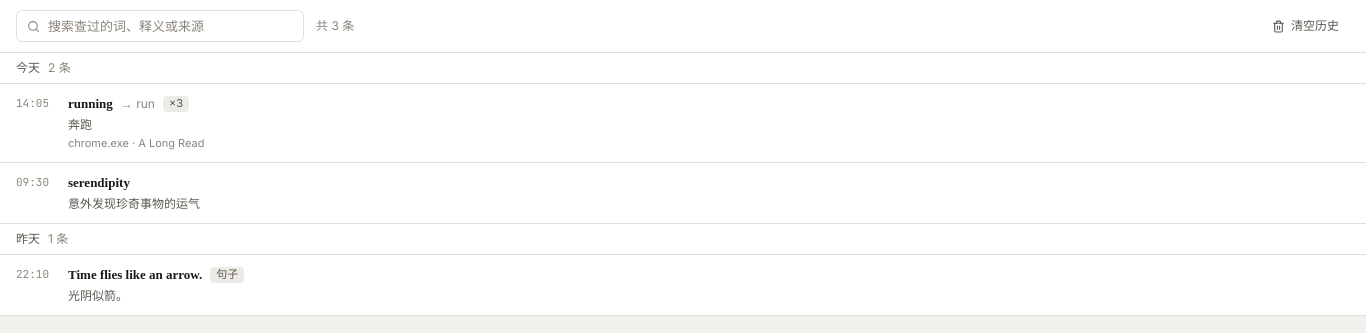
Scenario: the lookup history tab › says so, and reads the list again, when the entry has meanwhile disappeared
The width and height of the screenshot is (1366, 333).
Expected: the heading "今天2 条" is shown, [0,53,1365,84]
Step 1. Click the button with aria-label "再次查看 serendipity" → click(99, 183), box [68,173,1316,213]
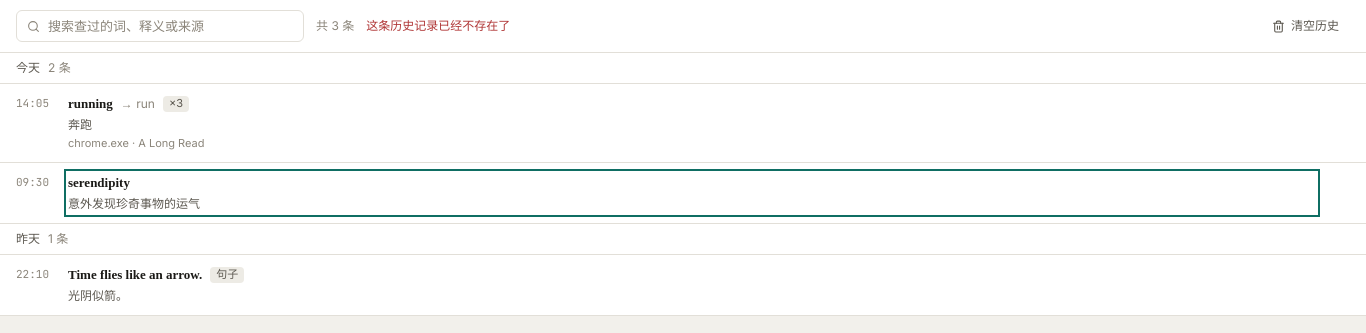
Expected: the message reads "这条历史记录已经不存在了", [366,18,510,33]
